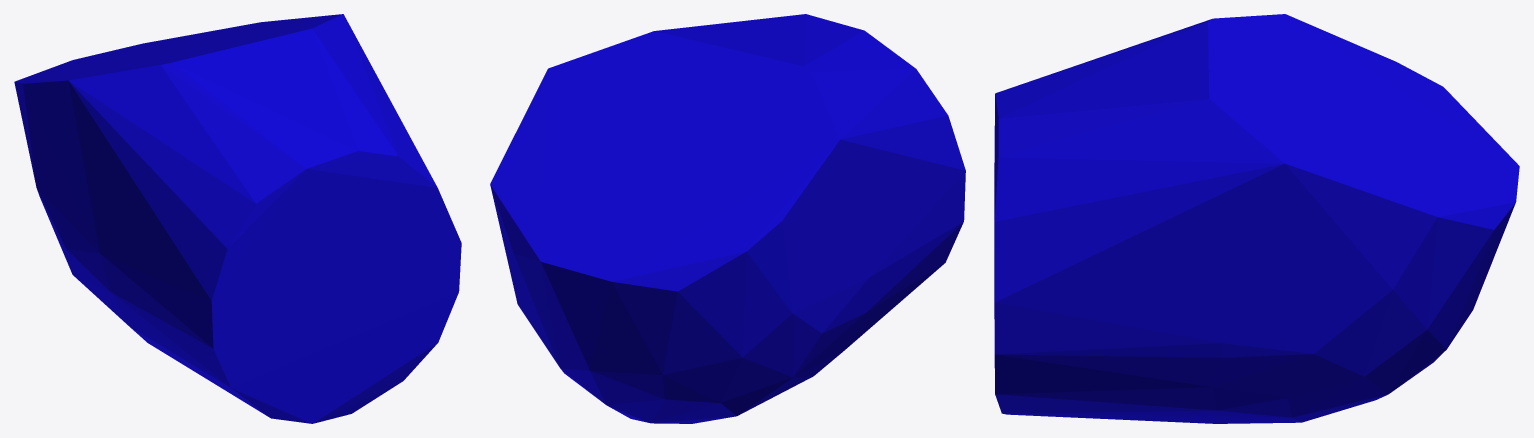
Rendered from arm-L2-mirror_convex_piece_003.obj.
3 renders of one model, left to right at view 1: azimuth 30°, elevation 25°; view 2: azimuth 150°, elevation 25°; view 3: azimuth 270°, elevation 25°, orthographic. The views are drawn at different scales.
Bounding box in the file's own units: 0.0818 × 0.0891 × 0.1217.
